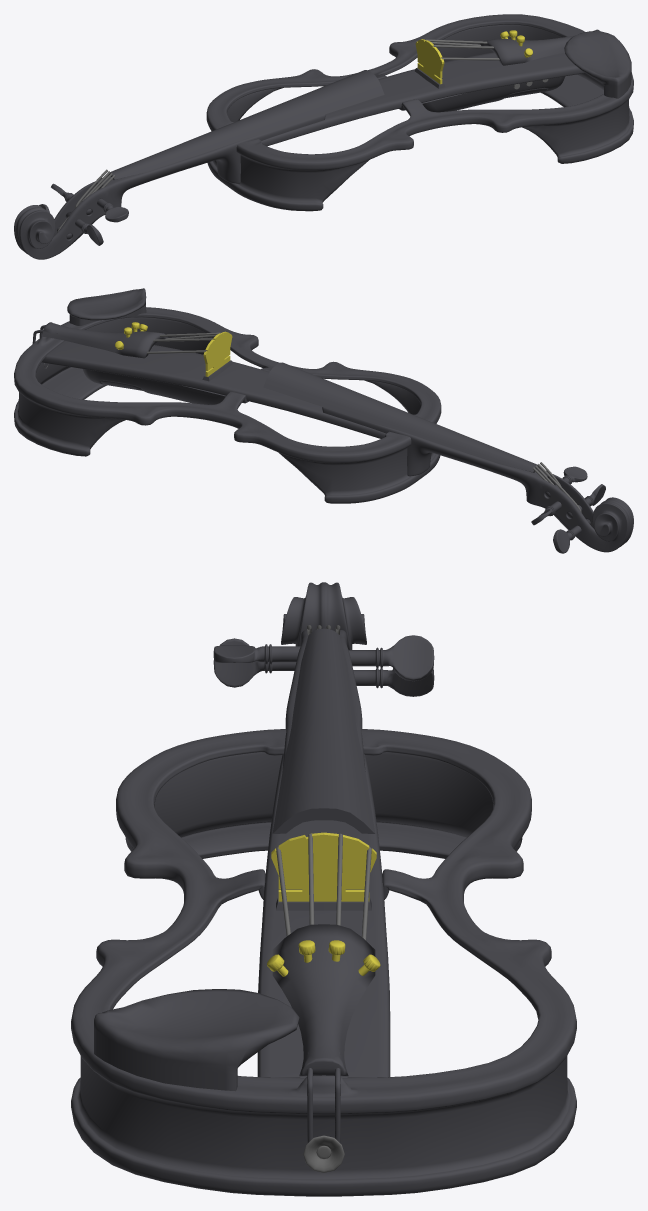
Rendered from violin-electric.glb.
The picture shows the model from 3 angles, top to bottom: view 1: azimuth 30°, elevation 25°; view 2: azimuth 150°, elevation 25°; view 3: azimuth 270°, elevation 25°; orthographic projection. The views are drawn at different scales.
Parts seen in each view (by area): view 1: frame, stringEnds; view 2: frame, stringEnds; view 3: frame, stringEnds.
Part boxes in pixels (x1,y1,x2,y2): frame: [14, 14, 633, 259]; stringEnds: [57, 39, 499, 232]; frame: [14, 288, 633, 553]; stringEnds: [147, 332, 581, 512]; frame: [71, 582, 576, 1196]; stringEnds: [276, 625, 371, 940].
Size of the model in its own units: 45.05 by 8.65 by 16.56.
